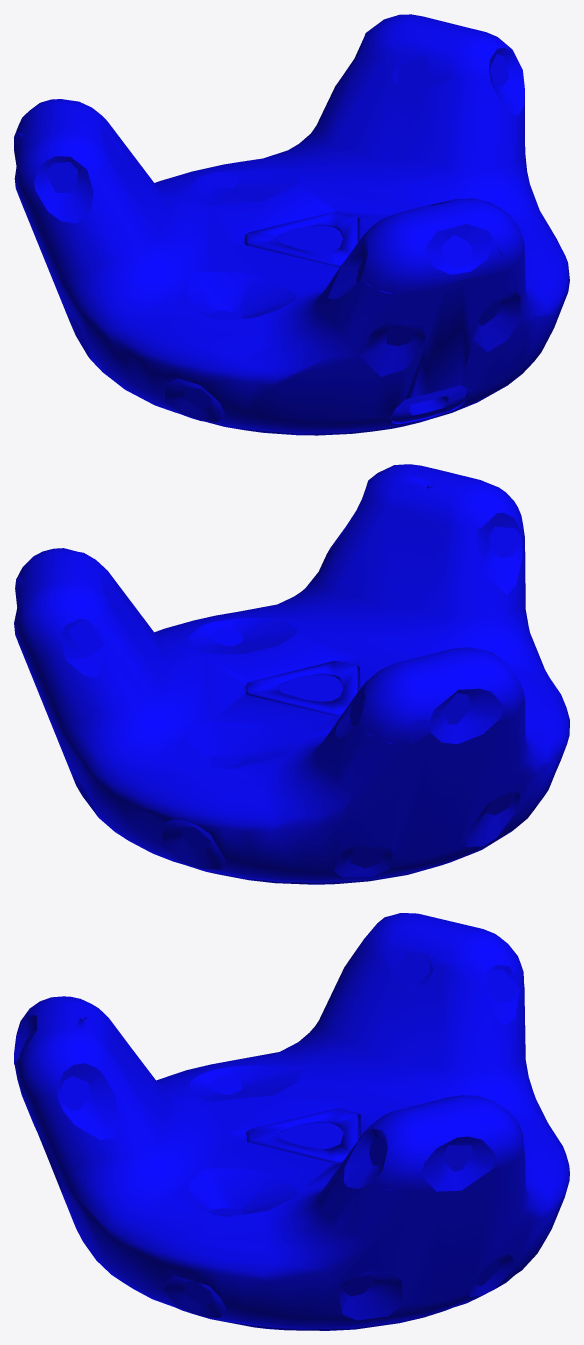
Rendered from vivetracker.FBX.
3 views of the same model, one above another, from view 1: azimuth 30°, elevation 25°; view 2: azimuth 150°, elevation 25°; view 3: azimuth 270°, elevation 25° (orthographic).
Visible parts, largest first — view 1: TRACKER-3D; view 2: TRACKER-3D; view 3: TRACKER-3D.
Part boxes in pixels (x1,y1,x2,y2): TRACKER-3D: (14, 14, 569, 435); TRACKER-3D: (14, 464, 569, 884); TRACKER-3D: (14, 913, 569, 1330).
Size of the model in its own units: 3.72 by 3.63 by 1.66.
